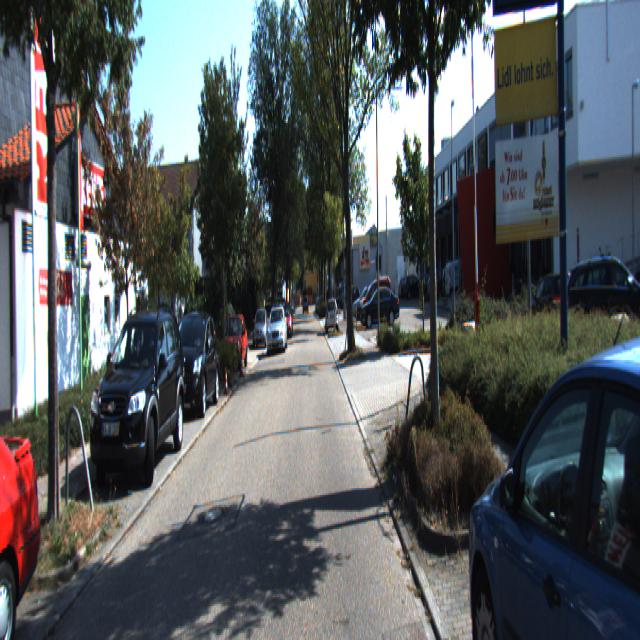Car: (469, 309, 639, 638), (88, 304, 188, 495), (0, 387, 49, 639), (165, 309, 221, 421), (444, 256, 484, 304), (218, 315, 248, 378), (360, 283, 401, 326), (266, 306, 288, 354), (326, 298, 339, 335)
